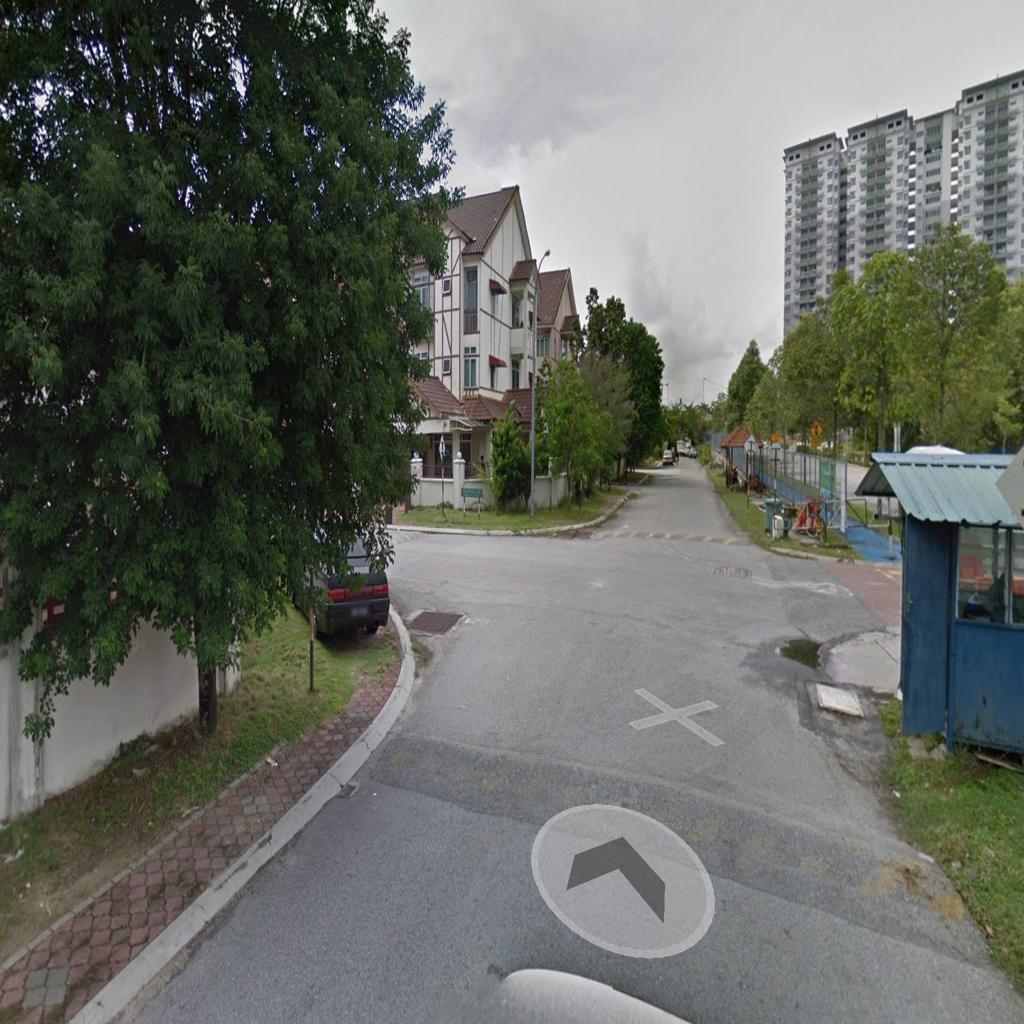Junction: (358, 500, 598, 726)
